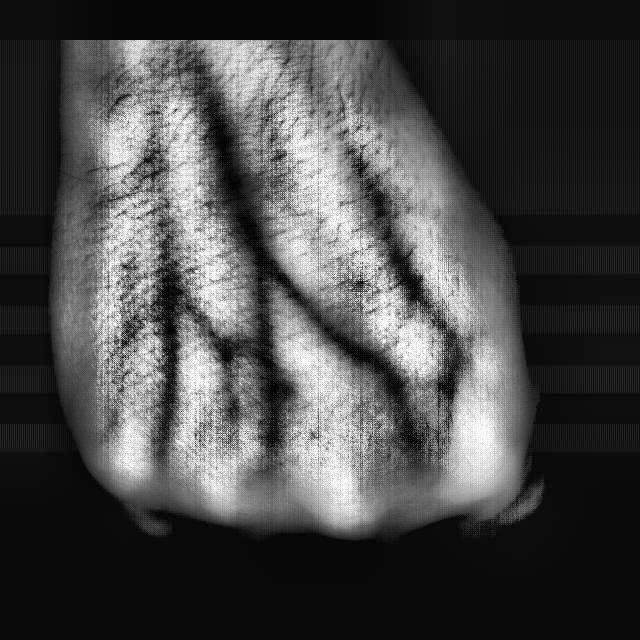Vein: (194, 84, 271, 257)
